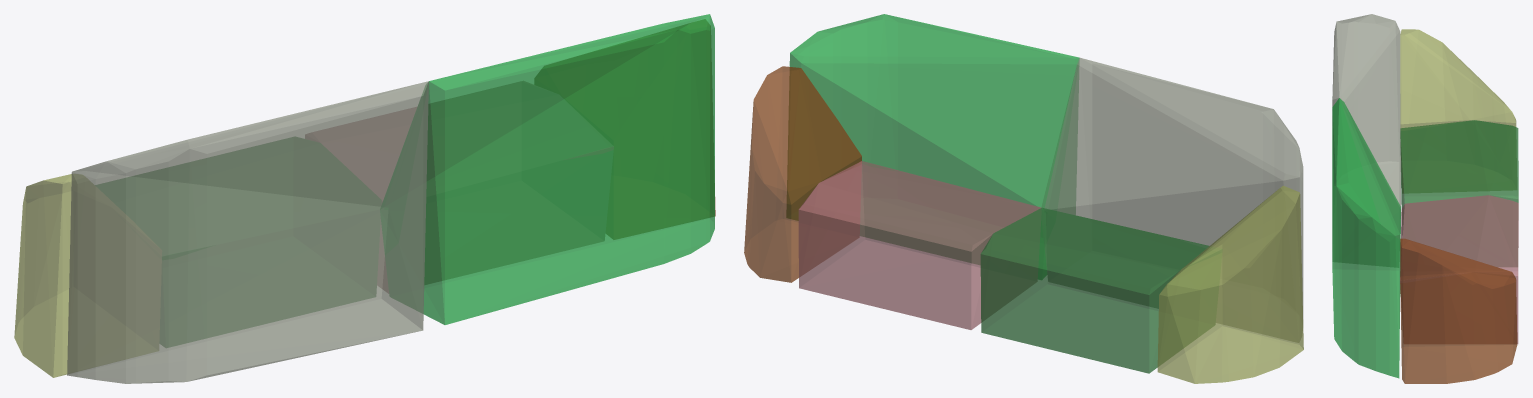
The picture shows the model from 3 angles, left to right: view 1: azimuth 30°, elevation 25°; view 2: azimuth 150°, elevation 25°; view 3: azimuth 270°, elevation 25°; orthographic projection. The views are drawn at different scales.
Parts seen in each view (by area): view 1: Shape_IndexedFaceSet, Shape_IndexedFaceSet.001, Shape_IndexedFaceSet.003, Shape_IndexedFaceSet.004, Shape_IndexedFaceSet.005, Shape_IndexedFaceSet.002; view 2: Shape_IndexedFaceSet.001, Shape_IndexedFaceSet, Shape_IndexedFaceSet.004, Shape_IndexedFaceSet.003, Shape_IndexedFaceSet.002, Shape_IndexedFaceSet.005; view 3: Shape_IndexedFaceSet.004, Shape_IndexedFaceSet, Shape_IndexedFaceSet.003, Shape_IndexedFaceSet.002, Shape_IndexedFaceSet.001, Shape_IndexedFaceSet.005.
Boxes of the visible parts, left/top/right/bottom form: Shape_IndexedFaceSet: left=67, top=81, right=428, bottom=383; Shape_IndexedFaceSet.001: left=380, top=14, right=714, bottom=324; Shape_IndexedFaceSet.003: left=96, top=137, right=380, bottom=347; Shape_IndexedFaceSet.004: left=305, top=81, right=613, bottom=292; Shape_IndexedFaceSet.005: left=535, top=19, right=715, bottom=239; Shape_IndexedFaceSet.002: left=14, top=174, right=161, bottom=377; Shape_IndexedFaceSet.001: left=787, top=14, right=1079, bottom=279; Shape_IndexedFaceSet: left=1041, top=57, right=1303, bottom=342; Shape_IndexedFaceSet.004: left=798, top=161, right=1041, bottom=329; Shape_IndexedFaceSet.003: left=980, top=207, right=1222, bottom=373; Shape_IndexedFaceSet.002: left=1157, top=185, right=1303, bottom=383; Shape_IndexedFaceSet.005: left=744, top=66, right=861, bottom=282; Shape_IndexedFaceSet.004: left=1400, top=195, right=1518, bottom=344; Shape_IndexedFaceSet: left=1332, top=14, right=1400, bottom=267; Shape_IndexedFaceSet.003: left=1400, top=120, right=1518, bottom=266; Shape_IndexedFaceSet.002: left=1400, top=29, right=1516, bottom=192; Shape_IndexedFaceSet.001: left=1332, top=98, right=1400, bottom=378; Shape_IndexedFaceSet.005: left=1400, top=238, right=1517, bottom=383.
Size of the model in its own units: 0.9006 by 0.3268 by 0.3175.
